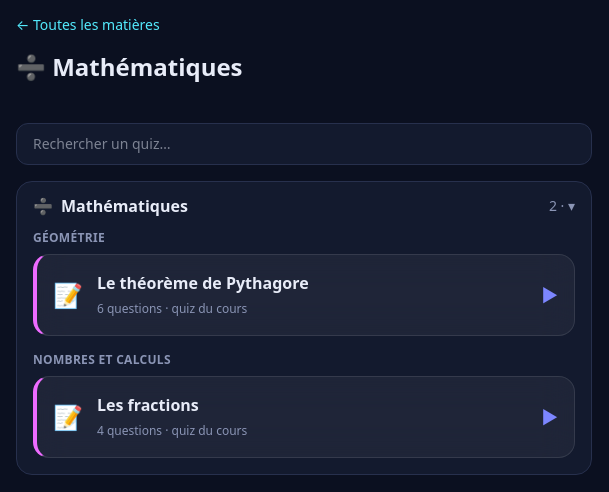
Test: QuizPage — matière → chapitre + recherche (ADR-0057) › 🔒 la recherche traverse les MATIÈRES — la règle des capsules, pas celle de la galaxie
This screenshot has width=609, height=492.
Check: the text "Les fractions" is shown, box [97, 394, 199, 416]
Type "photosynth" into the search field with placeholder "Rechercher un quiz…". click: coordinates (304, 144)
box: [16, 123, 592, 165]
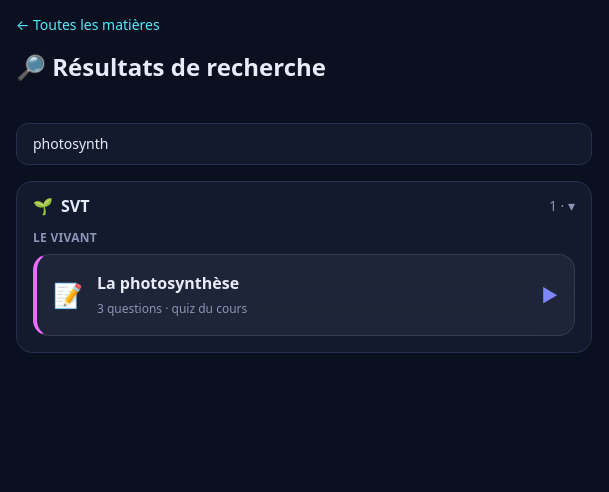
Check: the text "La photosynthèse" is shown, box [97, 271, 247, 295]
Check: the button "Les fractions" is gone
